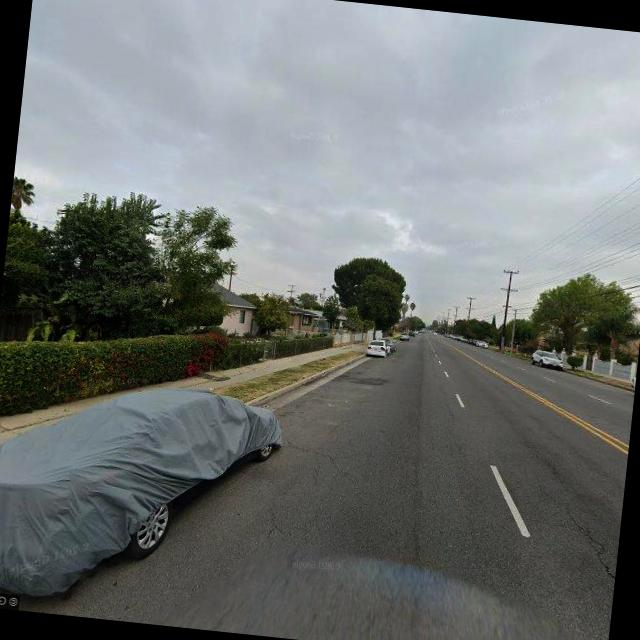pothole: (520, 451, 627, 591)
